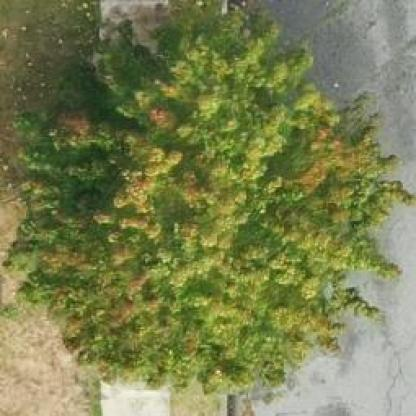Deciduous Tree: (6, 7, 414, 401)
